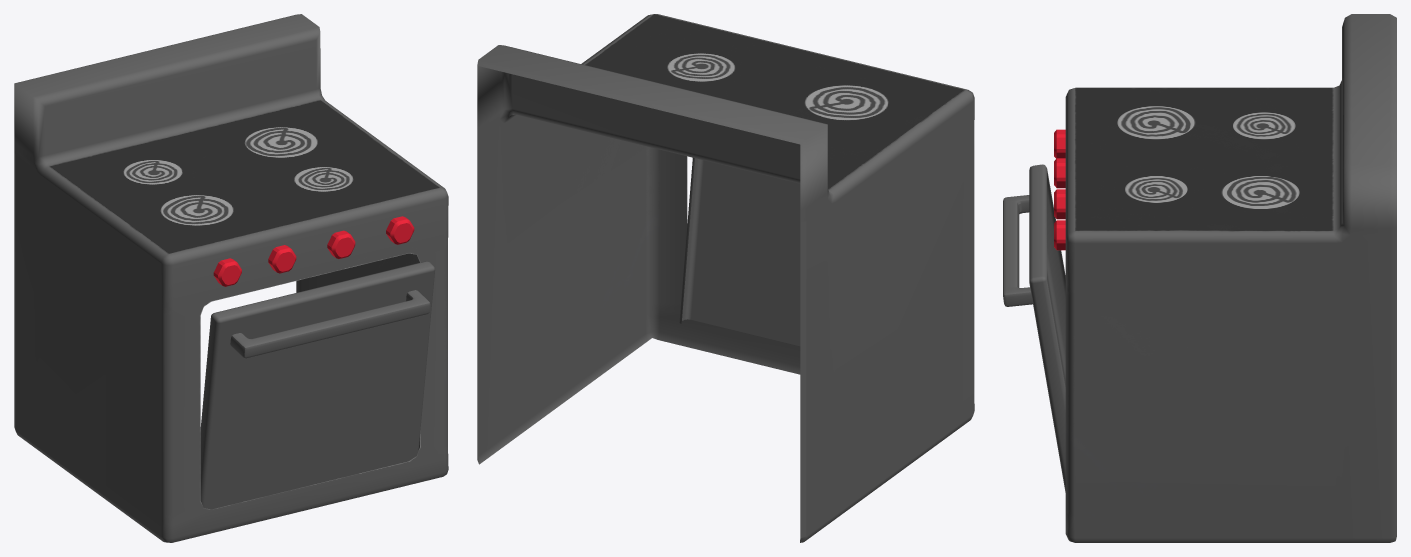
File: Oven_exp.fbx
The picture shows the model from 3 angles, left to right: view 1: azimuth 30°, elevation 25°; view 2: azimuth 150°, elevation 25°; view 3: azimuth 270°, elevation 25°; orthographic projection. The views are drawn at different scales.
Visible parts, largest first — view 1: pCylinder5; view 2: pCylinder5; view 3: pCylinder5.
Part boxes in pixels (bbox=[...]): pCylinder5: bbox=[14, 14, 448, 542]; pCylinder5: bbox=[477, 14, 974, 542]; pCylinder5: bbox=[1003, 14, 1396, 542].
Bounding box in the file's own units: 3.11 × 3.65 × 3.43.
1 material, 1 textured.
